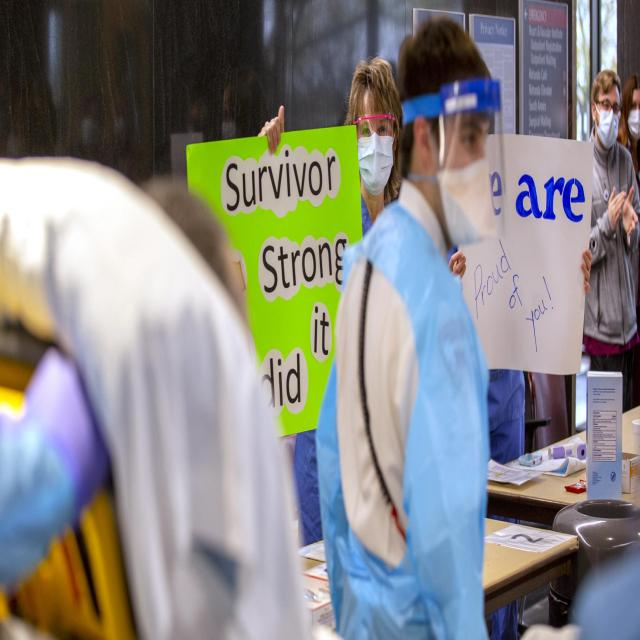Mask: (437, 154, 500, 258), (356, 135, 393, 193), (598, 113, 617, 149), (628, 111, 640, 135)
